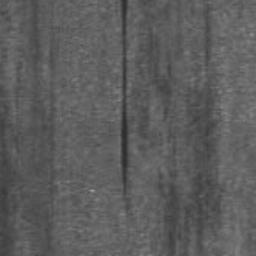Scratches: (116, 0, 128, 195)
